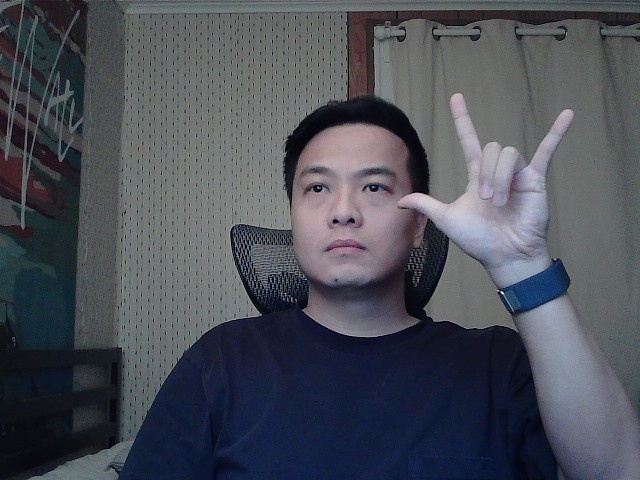I Love You: (365, 82, 603, 290)
